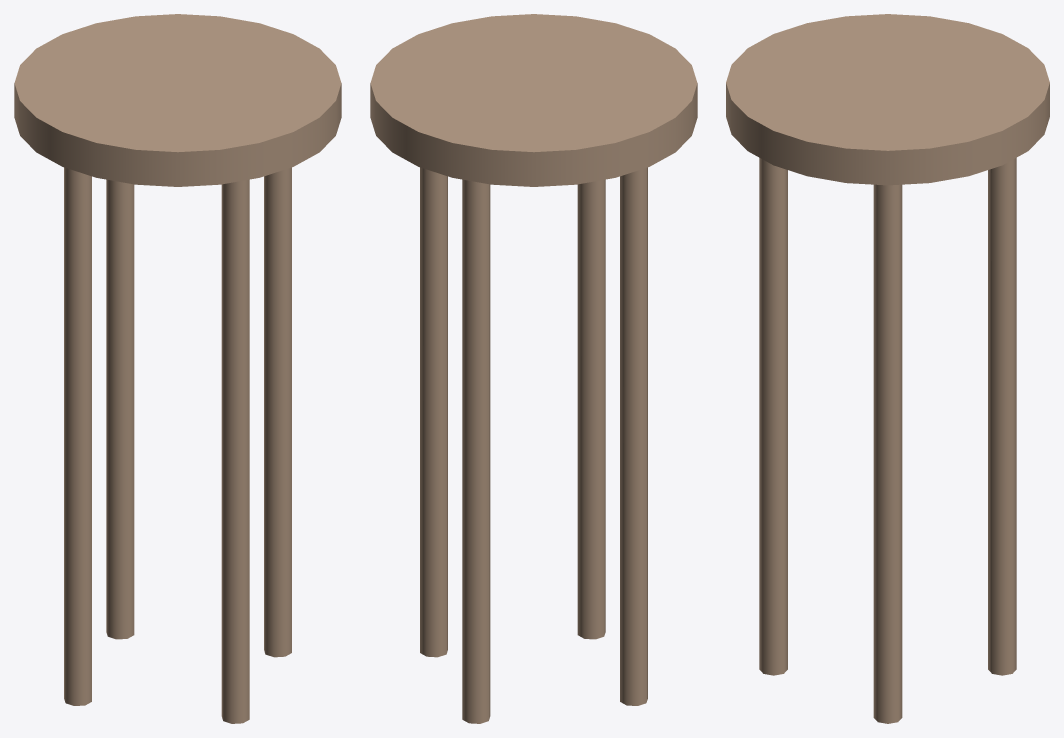
The model's file is bar_stool_01.glb.
The picture shows the model from 3 angles, left to right: view 1: azimuth 30°, elevation 25°; view 2: azimuth 150°, elevation 25°; view 3: azimuth 270°, elevation 25°; orthographic projection.
Size of the model in its own units: 0.34 by 0.68 by 0.34.
